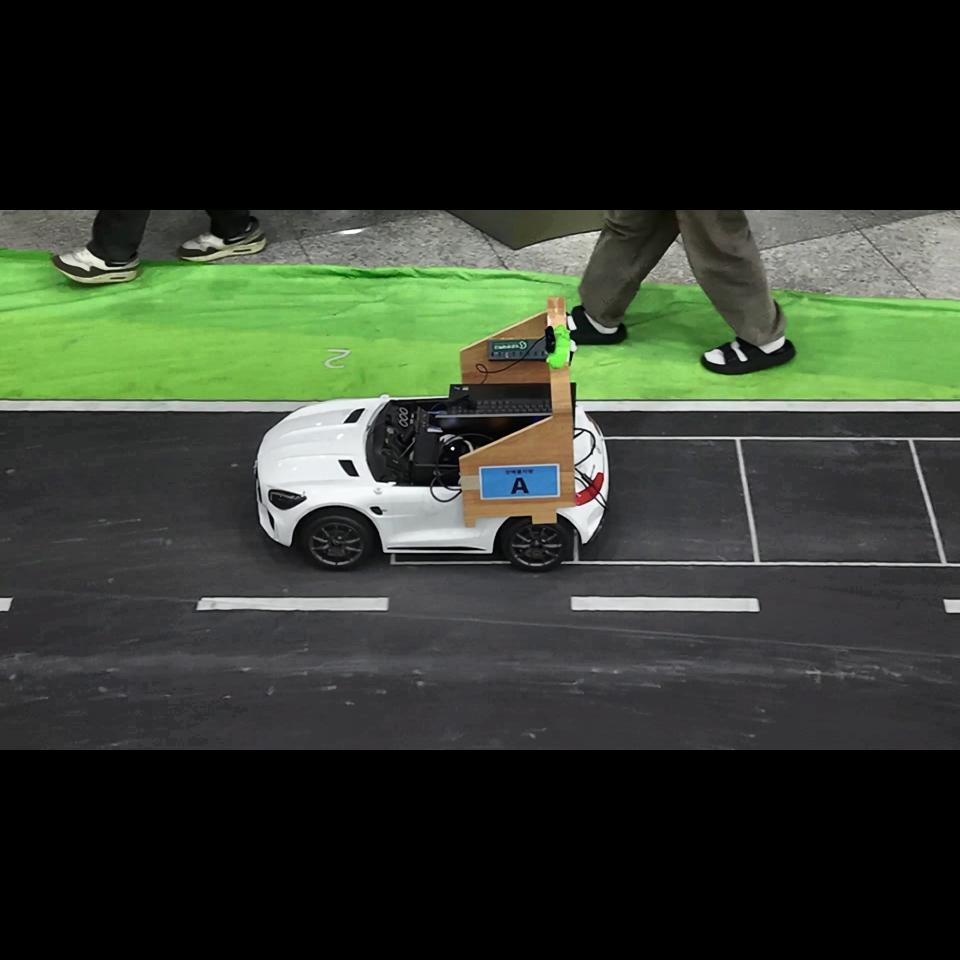broken_line: (570, 596, 760, 612), (196, 597, 389, 611), (943, 599, 960, 613), (0, 598, 14, 612)
